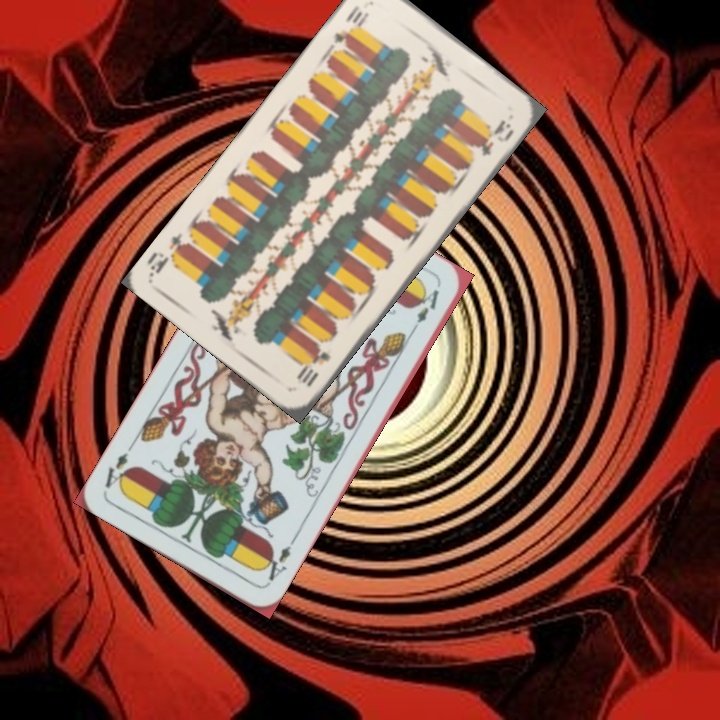E10: (292, 336, 333, 390), (329, 1, 372, 49)
EA: (256, 534, 298, 588)
